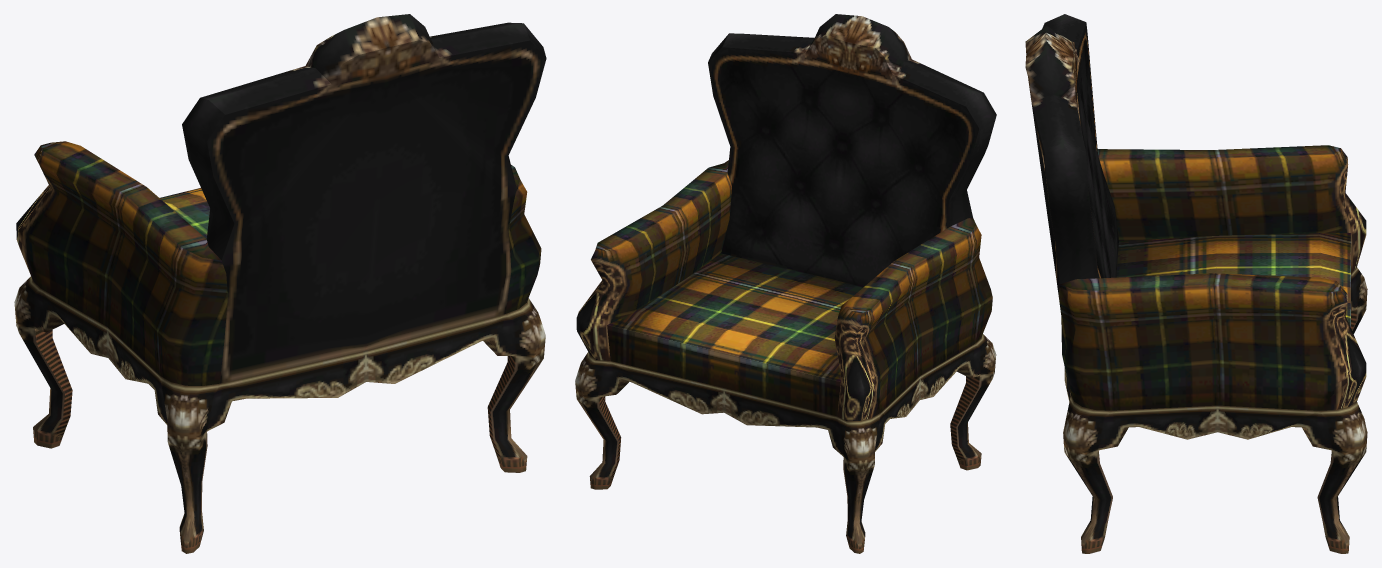
The model's file is furni_0200313_03.FBX.
The picture shows the model from 3 angles, left to right: view 1: azimuth 30°, elevation 25°; view 2: azimuth 150°, elevation 25°; view 3: azimuth 270°, elevation 25°; orthographic projection. The views are drawn at different scales.
Parts seen in each view (by area): view 1: furni_0200313_03; view 2: furni_0200313_03; view 3: furni_0200313_03.
Boxes of the visible parts, left/top/right/bottom form: furni_0200313_03: left=14, top=14, right=546, bottom=553; furni_0200313_03: left=575, top=14, right=996, bottom=553; furni_0200313_03: left=1025, top=14, right=1367, bottom=553.
Bounding box in the file's own units: 80.4 × 104 × 72.55.
